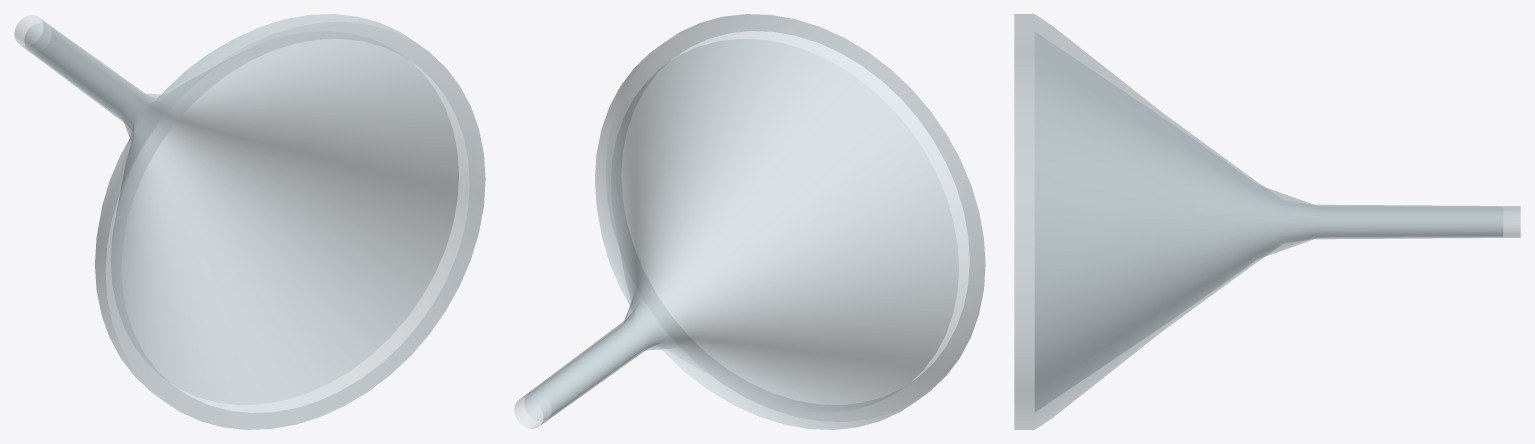
The model's file is modelo.glb.
3 renders of one model, left to right at view 1: azimuth 30°, elevation 25°; view 2: azimuth 150°, elevation 25°; view 3: azimuth 270°, elevation 25°, orthographic. The views are drawn at different scales.
Visible parts, largest first — view 1: Funil de Laboratorio; view 2: Funil de Laboratorio; view 3: Funil de Laboratorio.
Boxes of the visible parts, x1,y1,x2,y2 form: Funil de Laboratorio: [14, 14, 485, 429]; Funil de Laboratorio: [514, 14, 985, 429]; Funil de Laboratorio: [1014, 14, 1520, 429].
Bounding box in the file's own units: 0.1152 × 0.1152 × 0.14.
